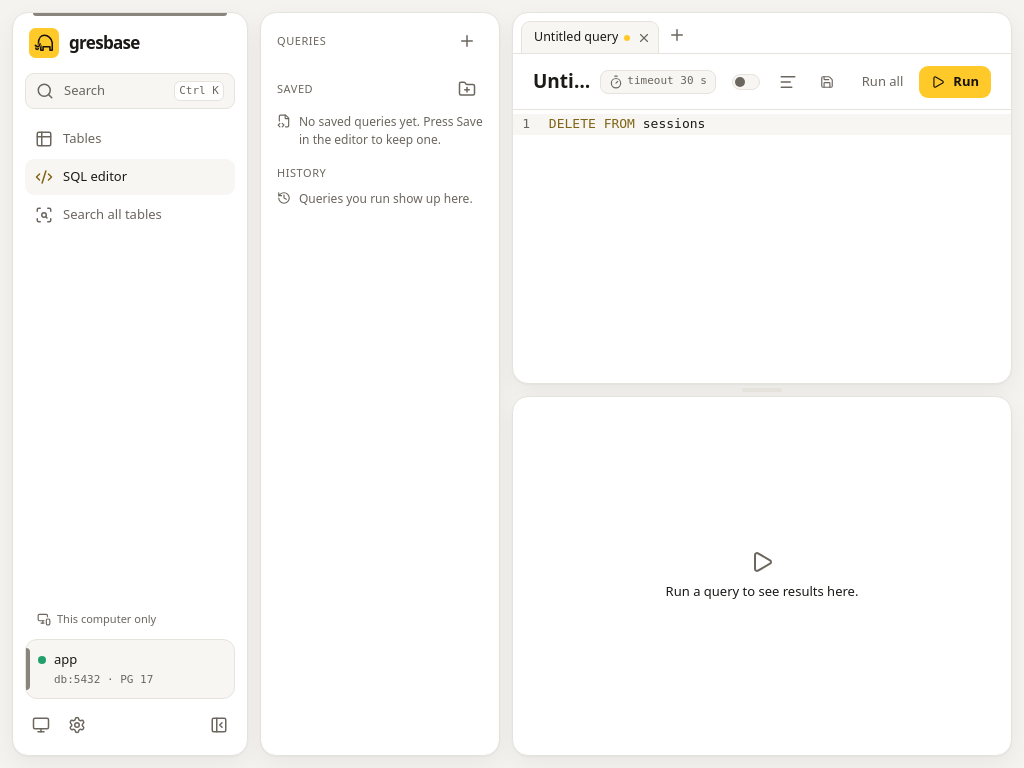
it: destructive SQL outside a transaction › asks first and runs it with confirmation
Click the button "Run" at {"x": 955, "y": 82}, box 919,66 -> 991,98
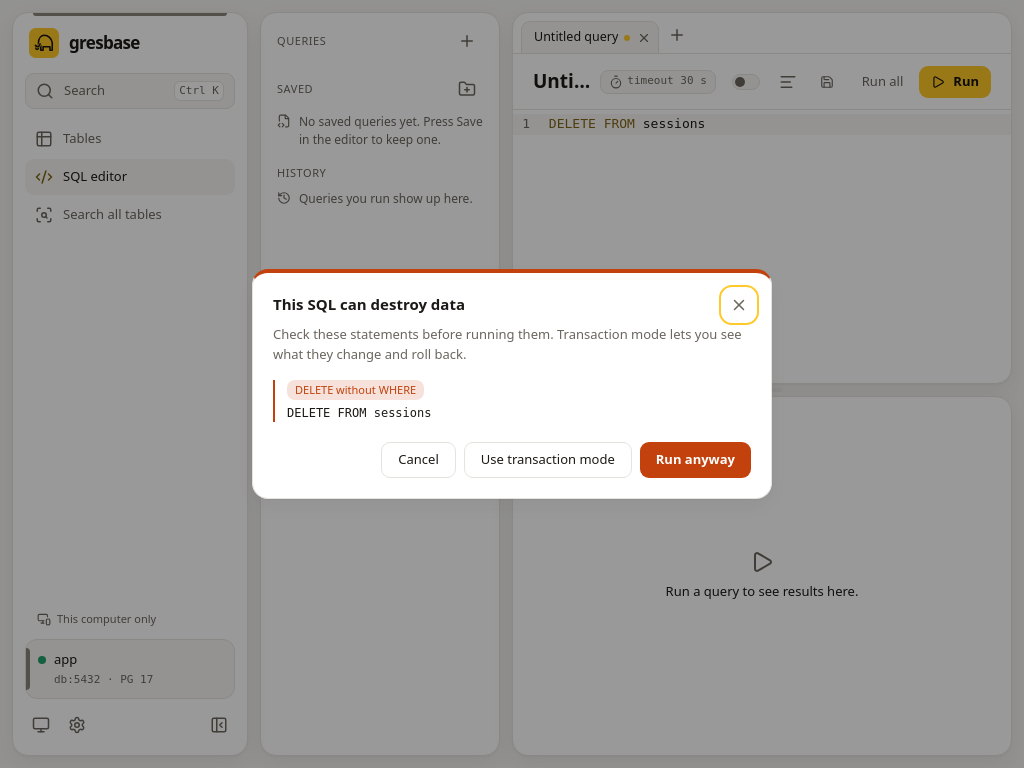
Check: the text "DELETE without WHERE" is shown, box 287,380 -> 424,400
Check: the text "DELETE FROM sessions" is shown, box 287,406 -> 432,420
Click the button "Run anyway" at {"x": 695, "y": 460}, box 640,442 -> 751,478
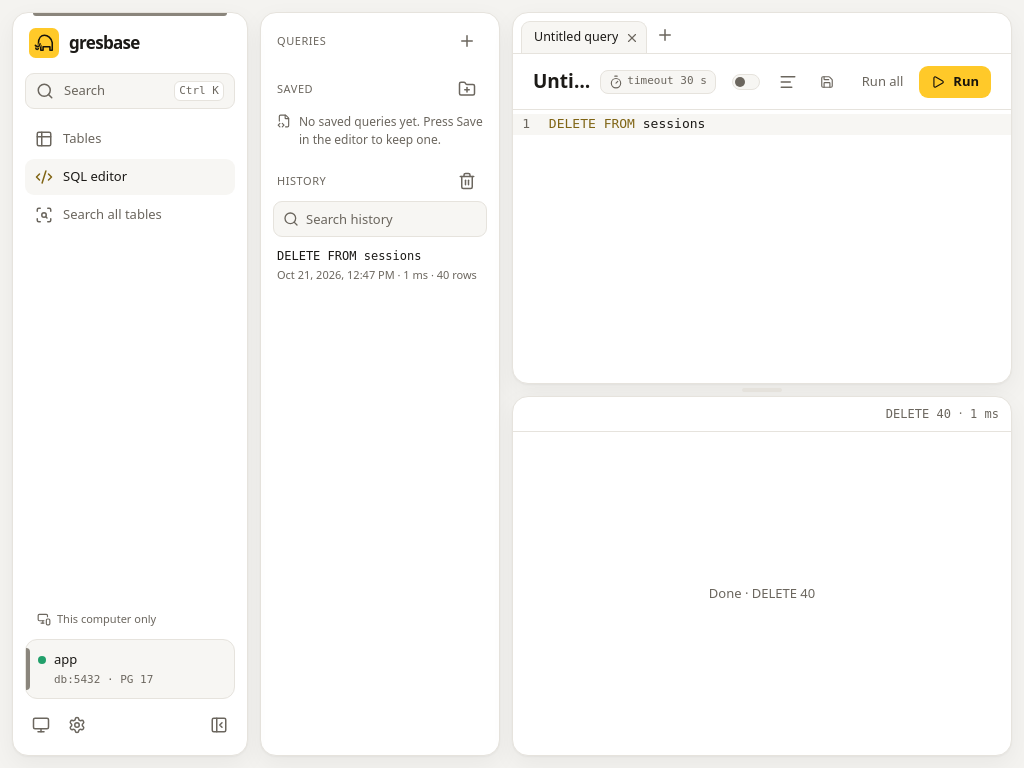
Check: the text "Done · DELETE 40" is shown, box 709,584 -> 815,602
